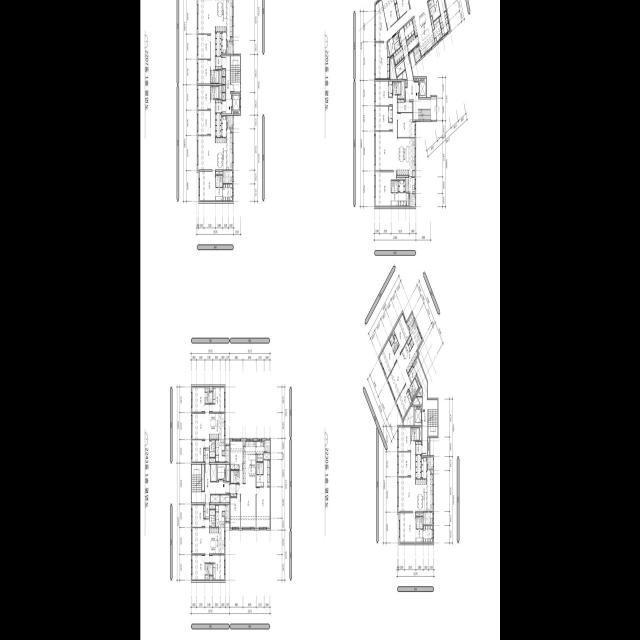background: (140, 0, 500, 640)
space_balconi: (406, 313, 415, 331), (413, 46, 421, 63), (409, 194, 415, 207), (427, 457, 433, 469)
space_bedroom: (375, 172, 396, 207), (393, 313, 410, 354), (379, 340, 396, 379), (396, 384, 412, 420), (256, 487, 269, 527), (375, 43, 389, 79), (399, 513, 415, 543), (199, 172, 215, 202), (382, 0, 397, 29), (375, 106, 392, 131), (398, 113, 415, 137), (375, 81, 392, 105), (230, 441, 243, 470), (209, 555, 224, 580), (209, 388, 224, 412), (192, 555, 205, 580), (230, 495, 240, 527), (197, 35, 210, 59), (398, 452, 410, 477), (198, 60, 210, 84), (192, 388, 204, 412), (398, 427, 410, 451), (198, 86, 210, 110), (198, 111, 210, 135), (395, 0, 409, 20), (192, 440, 204, 462), (192, 505, 204, 527), (388, 81, 392, 97), (388, 106, 392, 122)
space_dressroom: (439, 11, 450, 37), (223, 184, 233, 202), (423, 526, 433, 543), (263, 460, 269, 487), (398, 193, 408, 206), (398, 181, 405, 192)
space_elevator: (232, 94, 240, 114), (419, 78, 426, 97), (414, 407, 421, 425), (217, 465, 225, 480)
space_elevator_hall: (404, 56, 436, 120), (414, 358, 427, 455), (201, 465, 229, 503), (222, 56, 231, 114)
space_front: (398, 27, 408, 58), (393, 47, 404, 66), (404, 20, 414, 40), (397, 99, 412, 112), (408, 365, 416, 384), (215, 32, 221, 56), (215, 114, 221, 137), (203, 449, 209, 463), (203, 505, 209, 518), (230, 484, 236, 497), (415, 441, 421, 454), (215, 100, 221, 113), (215, 57, 221, 69)
space_kitchen: (412, 3, 435, 57), (400, 321, 422, 373), (215, 128, 233, 170), (215, 0, 233, 41), (209, 414, 224, 463), (209, 505, 224, 554), (415, 471, 433, 511), (397, 138, 415, 177), (243, 442, 255, 484), (221, 32, 226, 53), (221, 116, 226, 137)
space_living_room: (375, 0, 427, 41), (375, 95, 397, 170), (197, 100, 215, 171), (387, 349, 411, 402), (398, 441, 415, 513), (198, 0, 215, 70), (236, 471, 256, 527), (192, 519, 209, 563), (192, 405, 209, 448)
space_other: (406, 34, 418, 53), (433, 18, 442, 42), (403, 407, 413, 425), (395, 61, 405, 77), (256, 442, 264, 461), (405, 178, 415, 193), (390, 58, 397, 79), (415, 455, 421, 479), (423, 512, 433, 525), (223, 171, 233, 183), (421, 457, 426, 479), (398, 81, 404, 99), (210, 465, 216, 481), (397, 70, 407, 79), (412, 397, 422, 405), (210, 495, 219, 503), (220, 495, 229, 503), (415, 375, 420, 388), (202, 464, 204, 491), (416, 387, 422, 396), (226, 465, 229, 481), (431, 16, 434, 30), (407, 336, 411, 345), (387, 45, 390, 57), (263, 454, 269, 459), (209, 458, 215, 463), (219, 71, 221, 84), (419, 427, 421, 440), (219, 86, 221, 99), (209, 505, 215, 509), (222, 85, 225, 92), (416, 513, 423, 516), (222, 77, 225, 84), (222, 93, 225, 100), (222, 69, 225, 76), (434, 38, 437, 44), (428, 438, 429, 455), (397, 178, 405, 180), (412, 171, 415, 176), (413, 78, 418, 81), (209, 576, 212, 580), (216, 172, 222, 174), (230, 128, 233, 132), (392, 330, 394, 336), (405, 81, 407, 87), (243, 441, 245, 446), (430, 471, 433, 474), (209, 388, 212, 391), (222, 451, 224, 455), (222, 512, 224, 516)
space_outdoor_room: (264, 440, 270, 452), (227, 42, 233, 54), (225, 505, 229, 522), (225, 446, 229, 463), (227, 116, 233, 127)
space_staircase: (427, 400, 437, 436), (192, 465, 201, 503), (231, 56, 240, 92), (418, 109, 430, 120)
space_toilet: (428, 0, 440, 21), (409, 378, 418, 399), (416, 517, 423, 543), (389, 335, 399, 353), (256, 463, 263, 486), (387, 38, 395, 56), (438, 0, 446, 15), (205, 564, 212, 579), (205, 388, 212, 403), (210, 86, 218, 99), (209, 510, 215, 527), (209, 440, 215, 457), (231, 471, 239, 483), (411, 428, 419, 440), (210, 71, 218, 83), (392, 82, 400, 94), (391, 193, 398, 206), (216, 188, 222, 202), (394, 40, 400, 51), (393, 33, 399, 44), (394, 181, 398, 193), (391, 181, 394, 193), (219, 176, 222, 187), (216, 176, 219, 187)
